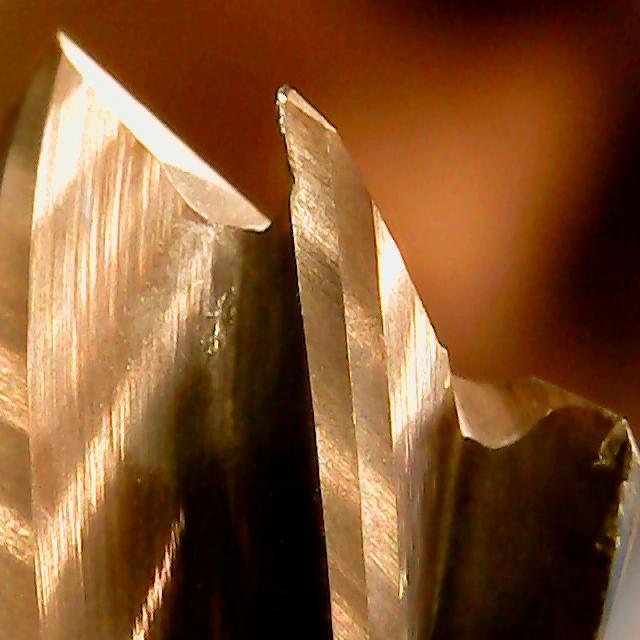Tool-wear-class-1: (269, 84, 392, 360)
